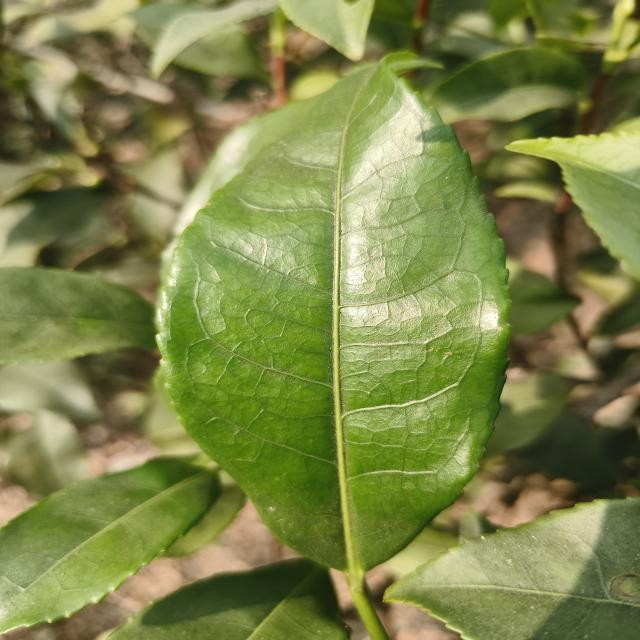Leaf: (160, 58, 508, 577), (0, 458, 221, 632), (388, 497, 640, 640), (109, 559, 349, 640), (506, 133, 640, 278), (0, 267, 156, 364), (429, 47, 584, 123), (150, 0, 278, 77), (280, 0, 374, 60)
